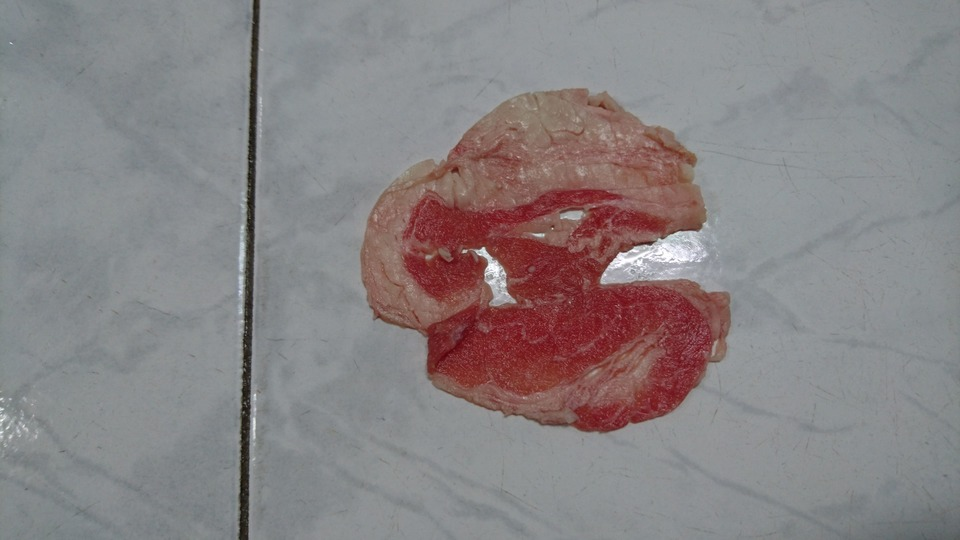restructured meat: (360, 86, 732, 438)
